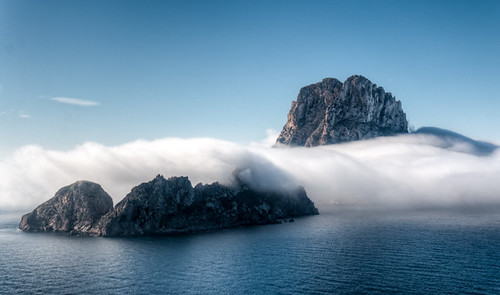mountain: (46, 146, 305, 218), (278, 58, 416, 137)
sea: (1, 219, 500, 295)
sky: (4, 1, 500, 132)
